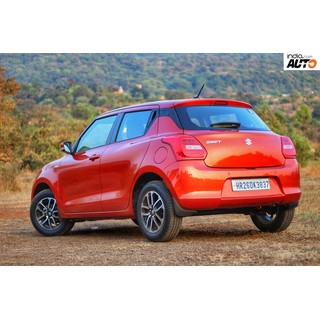car: (30, 95, 302, 244)
